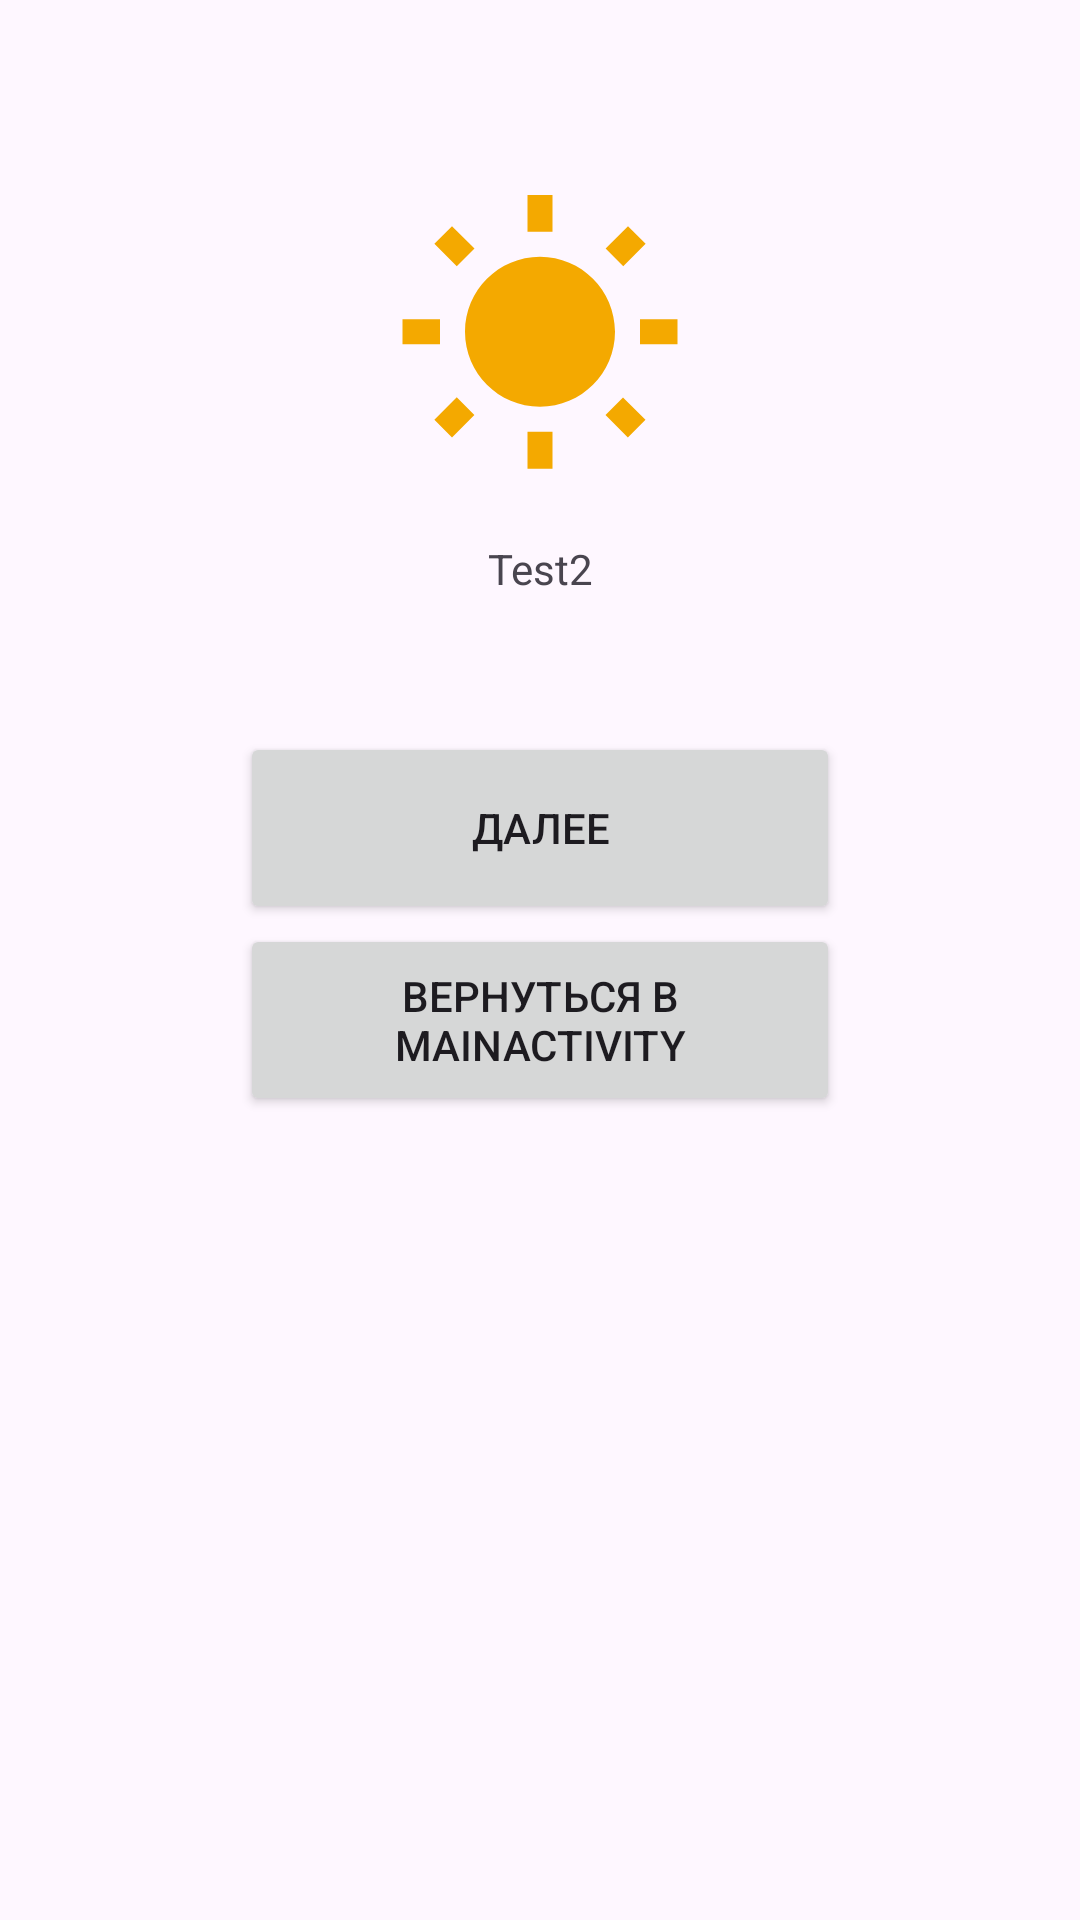

Named icons in this screenshot (1080px×1920px) and their centers, [x,y]:
sun: [540,332]
